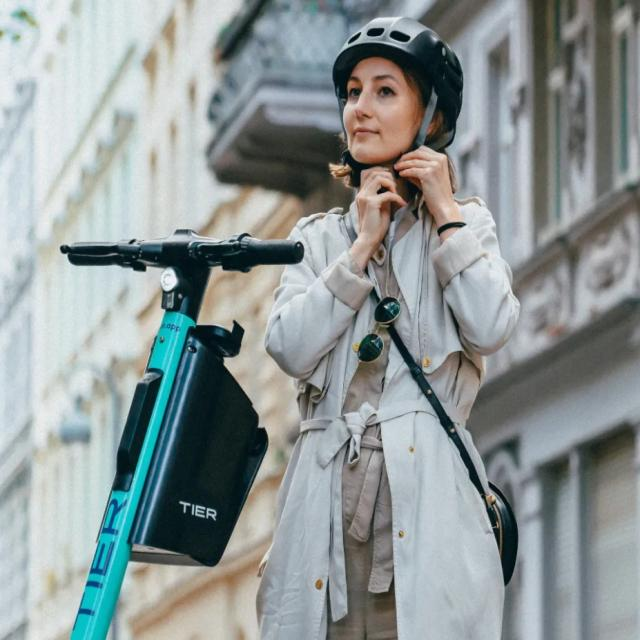helmet: (17, 12, 582, 627)
